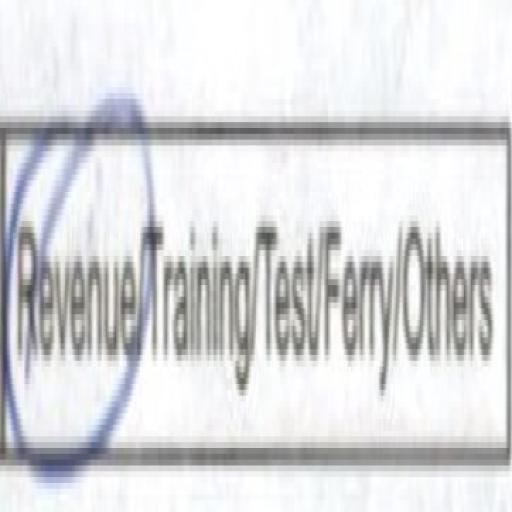check: (0, 35, 143, 442)
